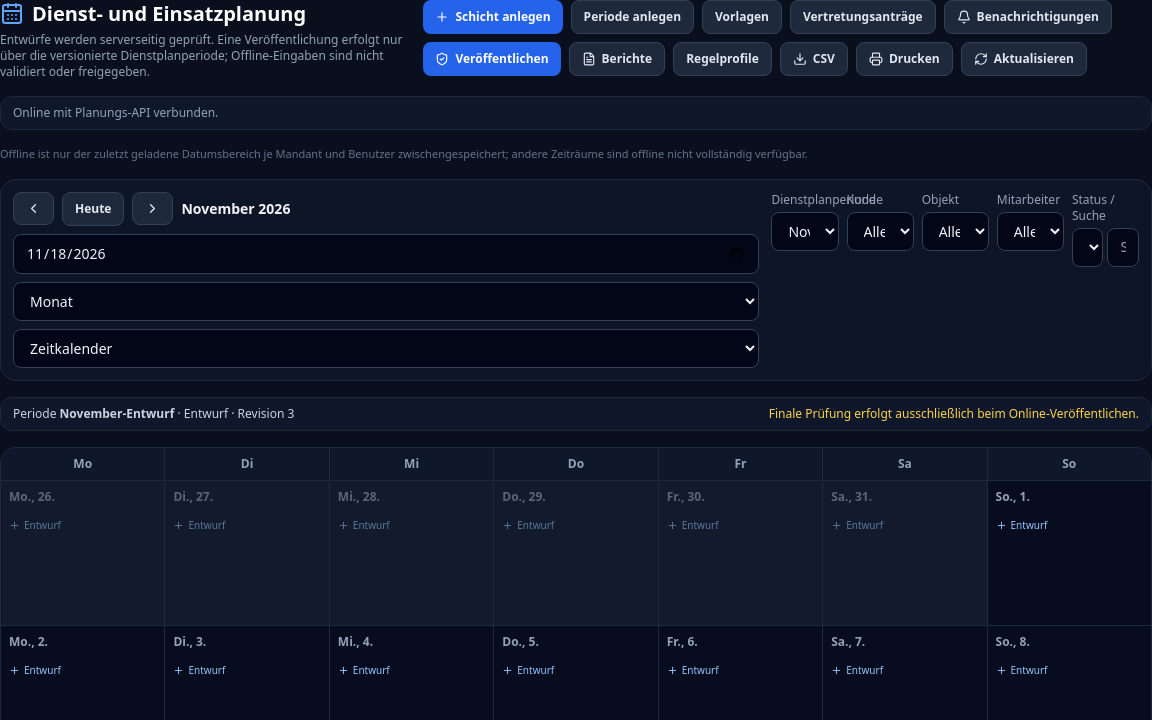
Test: RosterModule › renders nullable report values, configuration statuses, and source metadata
Click the button "Berichte" at coordinates (617, 59), box [568,42,665,76]
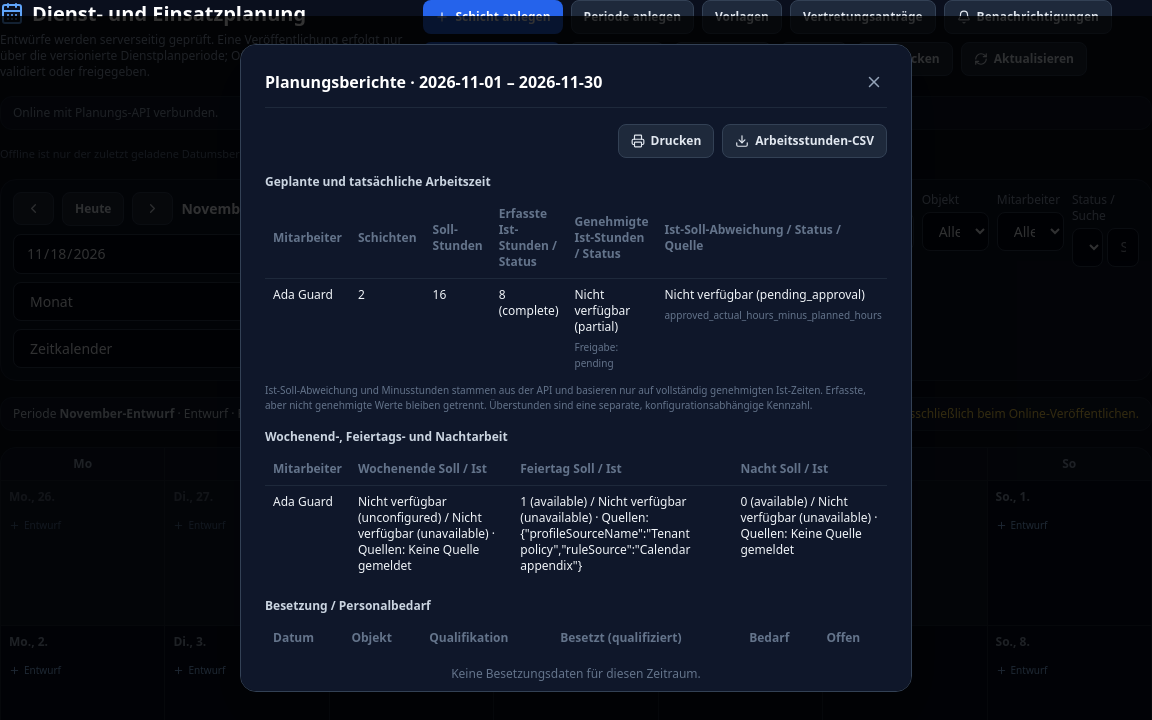
Now the text "Nicht verfügbar (partial)" is shown, box [574,286,630,335]
Now the text "Nicht verfügbar (unconfigured)" is shown, box [358,493,495,574]
Now the text "Tenant policy" is shown, box [520,493,690,574]
